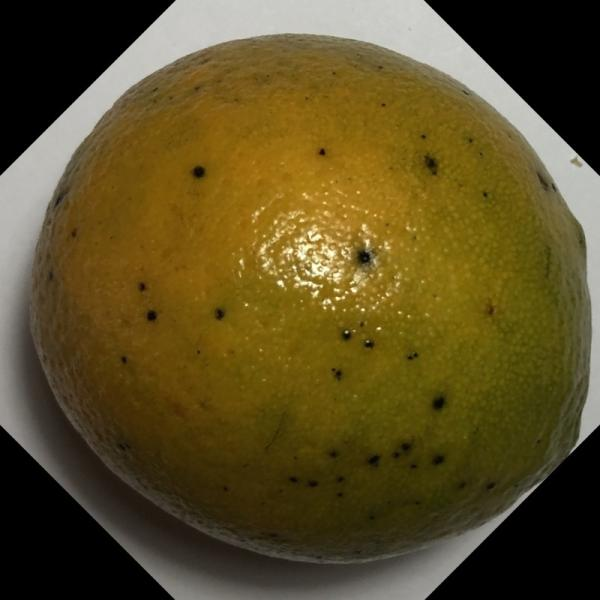Machas negras: (18, 28, 596, 562)
